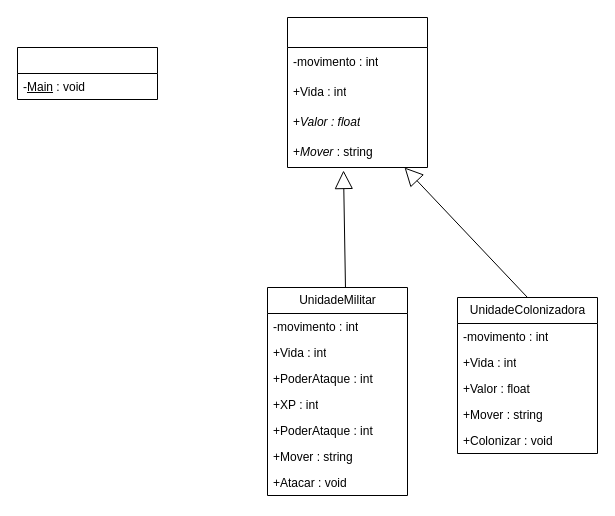
Some shapes in this 615 by 516 pixel diagram are drawn without their labels. Each missing label, with the box of its shape:
Program: (16, 46, 158, 100)
Unidade: (286, 16, 428, 168)
